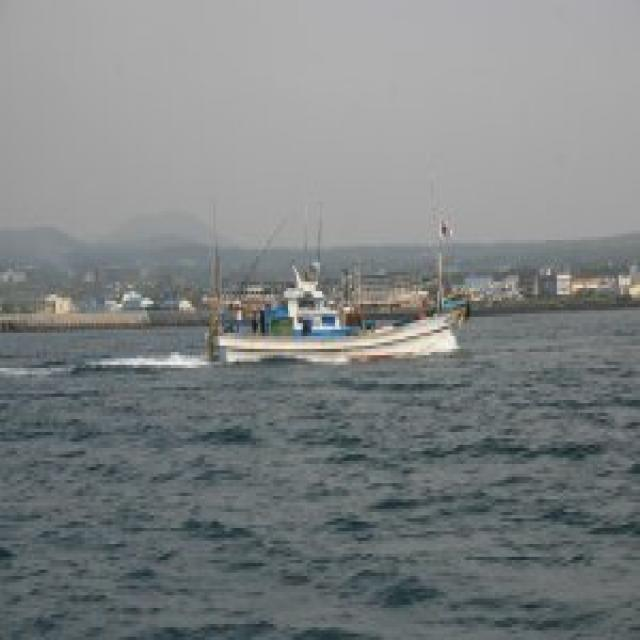Ship: (185, 168, 501, 405)
